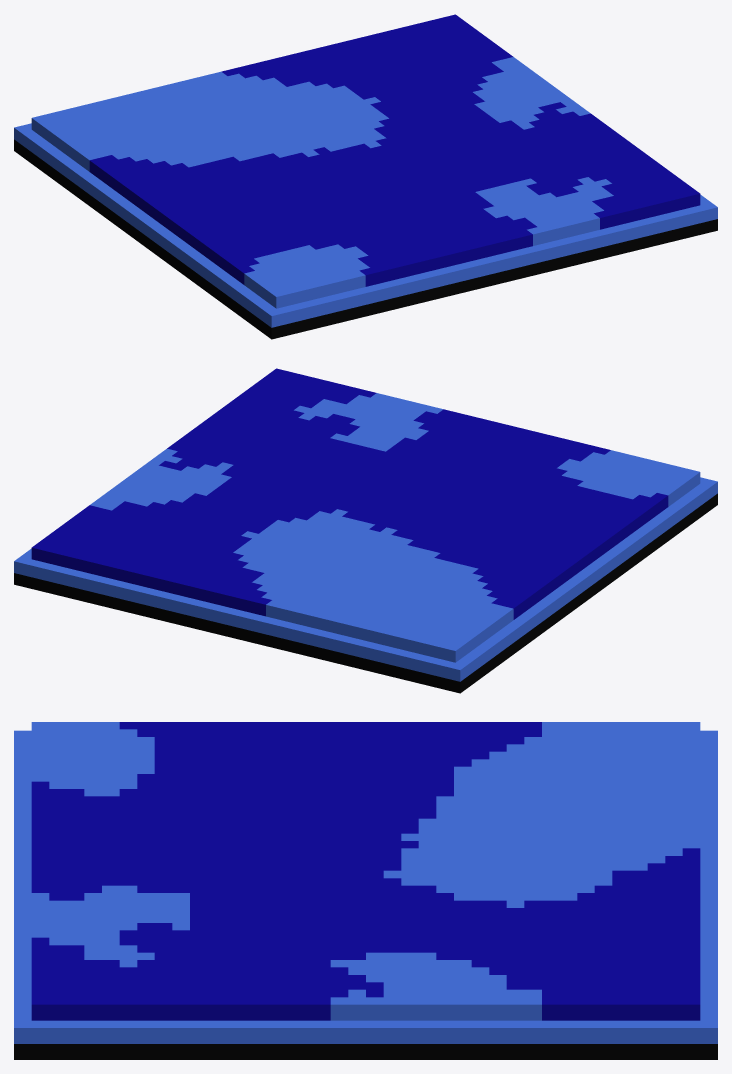
File: BoardPieceTwo.fbx
The picture shows the model from 3 angles, top to bottom: view 1: azimuth 30°, elevation 25°; view 2: azimuth 150°, elevation 25°; view 3: azimuth 270°, elevation 25°; orthographic projection. The views are drawn at different scales.
Visible parts, largest first — view 1: boardGround2; view 2: boardGround2; view 3: boardGround2.
Boxes of the visible parts, left/top/right/bottom form: boardGround2: left=14, top=14, right=717, bottom=339; boardGround2: left=14, top=368, right=717, bottom=693; boardGround2: left=14, top=722, right=717, bottom=1059.
Size of the model in its own units: 400 by 30 by 400.
